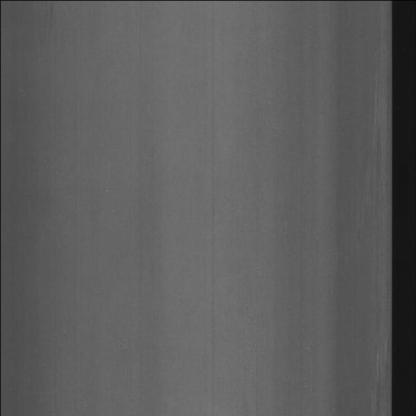silk_spot: (362, 46, 390, 198), (370, 322, 389, 410)
